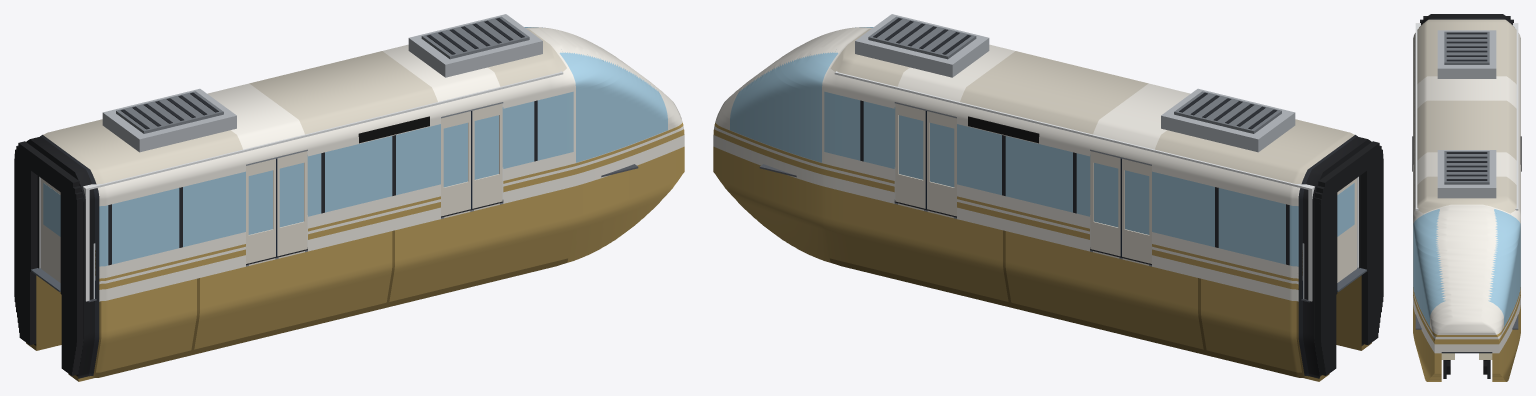
Rendered from palm_jumeirah_front.obj.
The picture shows the model from 3 angles, left to right: view 1: azimuth 30°, elevation 25°; view 2: azimuth 150°, elevation 25°; view 3: azimuth 270°, elevation 25°; orthographic projection. The views are drawn at different scales.
Parts seen in each view (by area): view 1: SHELL, SHELL_roof, SHELL_diaphragm, EXTERNAL_DOOR_3_CG_DR1_TOGGLE_TL_-0.64_X, EXTERNAL_DOOR_9_CG_DR2_TOGGLE_TL_-0.64_X, EXTERNAL_DOOR_4_CG_DR1_TOGGLE_TL_0.64_X, EXTERNAL_DOOR_10_CG_DR2_TOGGLE_TL_0.64_X, CONNECTING_DOOR_1_CG_CR_TOGGLE_TL_0.98_Z, SHELL_ceiling, SHELL_end, SHELL_sign; view 2: SHELL, SHELL_roof, SHELL_diaphragm, EXTERNAL_DOOR_6_CG_DL1_TOGGLE_TL_-0.64_X, EXTERNAL_DOOR_12_CG_DL2_TOGGLE_TL_-0.64_X, EXTERNAL_DOOR_7_CG_DL1_TOGGLE_TL_0.64_X, EXTERNAL_DOOR_13_CG_DL2_TOGGLE_TL_0.64_X, CONNECTING_DOOR_1_CG_CR_TOGGLE_TL_0.98_Z, SHELL_ceiling, SHELL_end, SHELL_sign; view 3: SHELL, SHELL_roof, SHELL_ceiling, BOGEY_FRONT, HEADLIGHT_1, SHELL_floor, SHELL_sign.
Part boxes in pixels (x1,y1,x2,y2): SHELL: [26, 27, 684, 381]; SHELL_roof: [102, 14, 542, 152]; SHELL_diaphragm: [14, 141, 83, 375]; EXTERNAL_DOOR_3_CG_DR1_TOGGLE_TL_-0.64_X: [246, 158, 277, 263]; EXTERNAL_DOOR_9_CG_DR2_TOGGLE_TL_-0.64_X: [441, 111, 472, 216]; EXTERNAL_DOOR_4_CG_DR1_TOGGLE_TL_0.64_X: [277, 151, 307, 256]; EXTERNAL_DOOR_10_CG_DR2_TOGGLE_TL_0.64_X: [472, 103, 502, 208]; CONNECTING_DOOR_1_CG_CR_TOGGLE_TL_0.98_Z: [41, 178, 60, 282]; SHELL_ceiling: [25, 71, 563, 189]; SHELL_end: [39, 176, 89, 301]; SHELL_sign: [358, 116, 429, 143]; SHELL: [713, 27, 1371, 381]; SHELL_roof: [855, 14, 1295, 152]; SHELL_diaphragm: [1314, 141, 1383, 375]; EXTERNAL_DOOR_6_CG_DL1_TOGGLE_TL_-0.64_X: [1120, 158, 1151, 263]; EXTERNAL_DOOR_12_CG_DL2_TOGGLE_TL_-0.64_X: [925, 111, 956, 216]; EXTERNAL_DOOR_7_CG_DL1_TOGGLE_TL_0.64_X: [1090, 151, 1120, 256]; EXTERNAL_DOOR_13_CG_DL2_TOGGLE_TL_0.64_X: [895, 103, 925, 208]; CONNECTING_DOOR_1_CG_CR_TOGGLE_TL_0.98_Z: [1337, 178, 1356, 282]; SHELL_ceiling: [834, 71, 1372, 189]; SHELL_end: [1308, 176, 1358, 301]; SHELL_sign: [968, 116, 1039, 143]; SHELL: [1413, 14, 1520, 381]; SHELL_roof: [1437, 30, 1496, 198]; SHELL_ceiling: [1415, 24, 1518, 210]; BOGEY_FRONT: [1443, 360, 1490, 378]; HEADLIGHT_1: [1441, 353, 1492, 359]; SHELL_floor: [1415, 314, 1518, 329]; SHELL_sign: [1412, 136, 1521, 171].
Size of the model in its own units: 13.96 by 4.81 by 2.66.
Materials: 1 (1 with a texture image).
